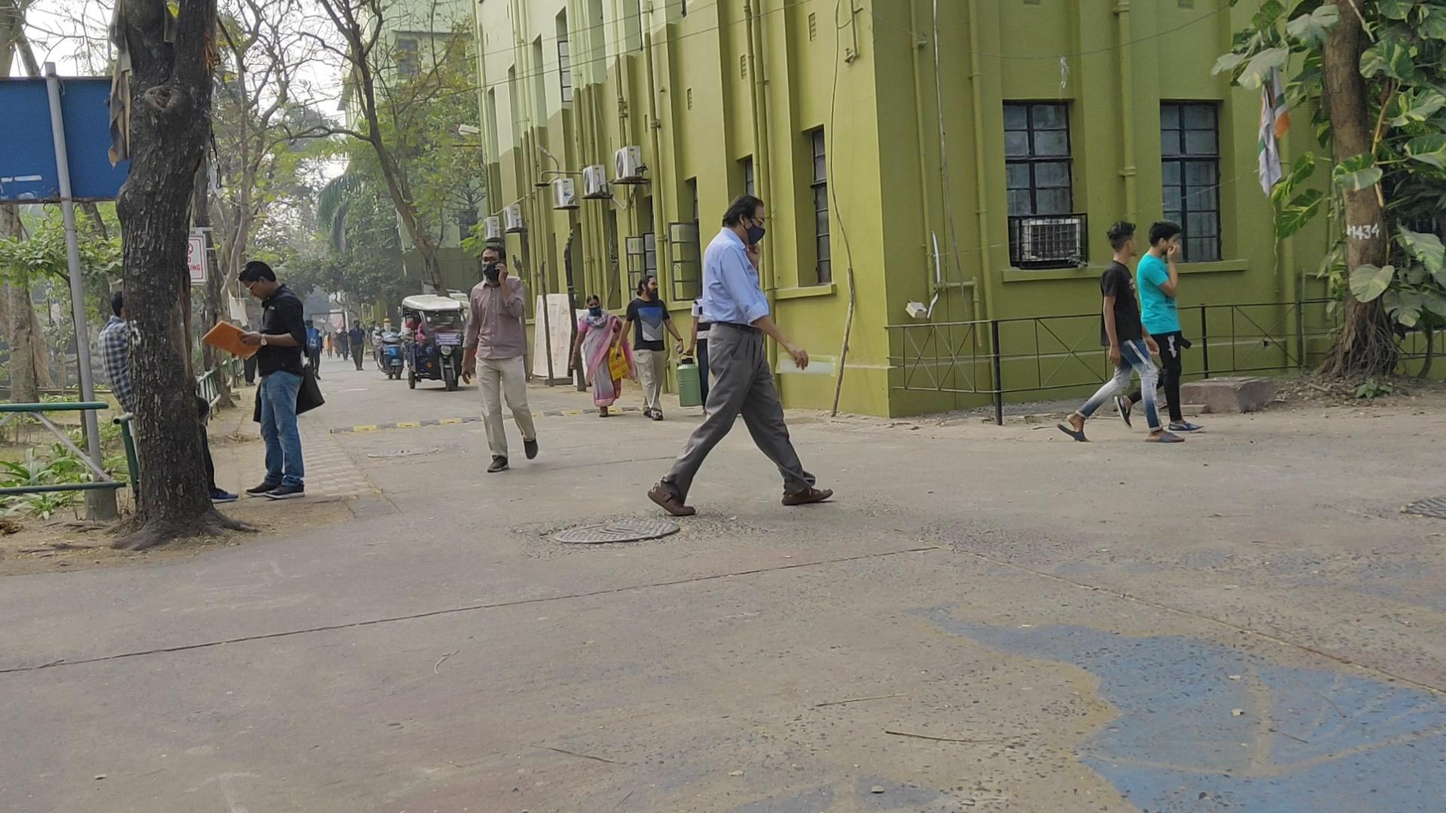Auto: (401, 294, 466, 392)
bike: (374, 317, 407, 381)
